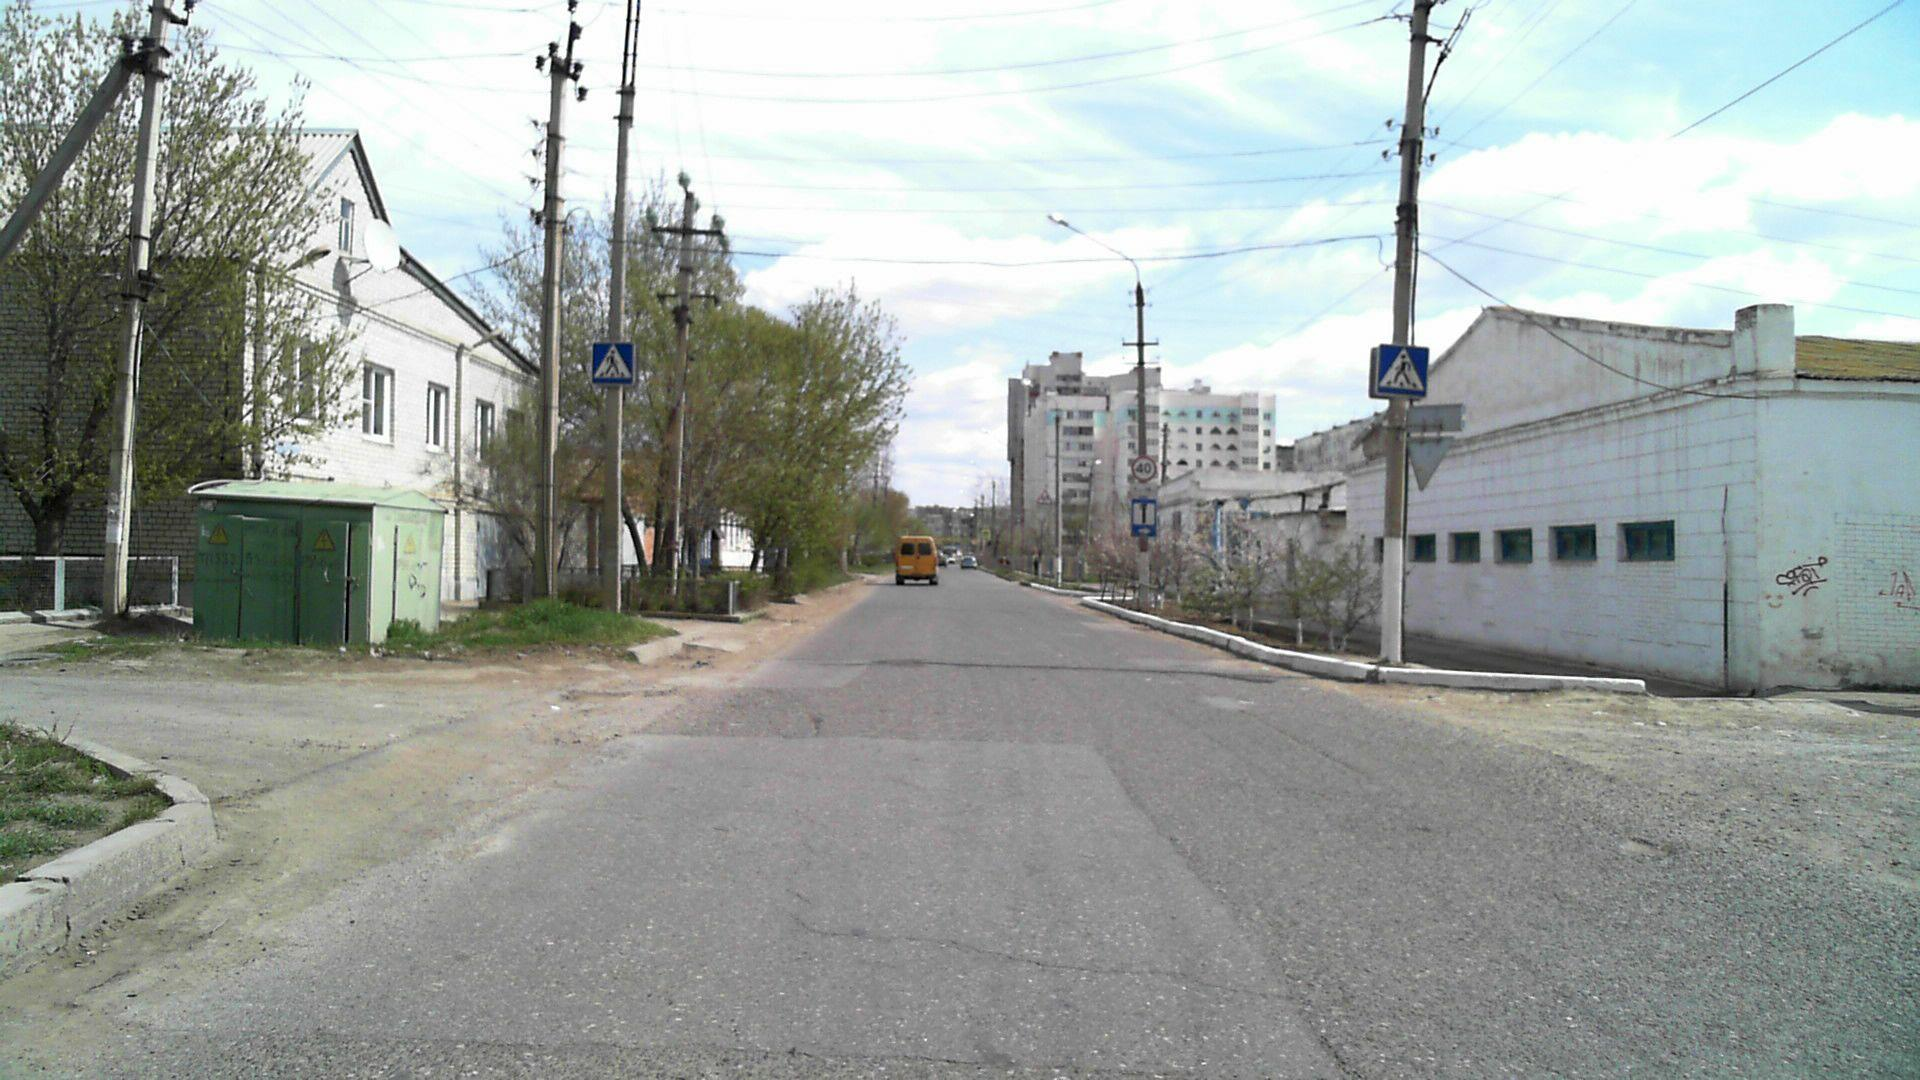1_23: (1036, 487, 1053, 506)
3_24: (1131, 455, 1157, 484)
5_19_1: (1372, 342, 1429, 398), (984, 531, 990, 538)
5_19_2: (593, 342, 635, 383), (900, 530, 908, 537)
7_4: (1132, 498, 1157, 537)
8_5_4: (1130, 484, 1158, 497)
